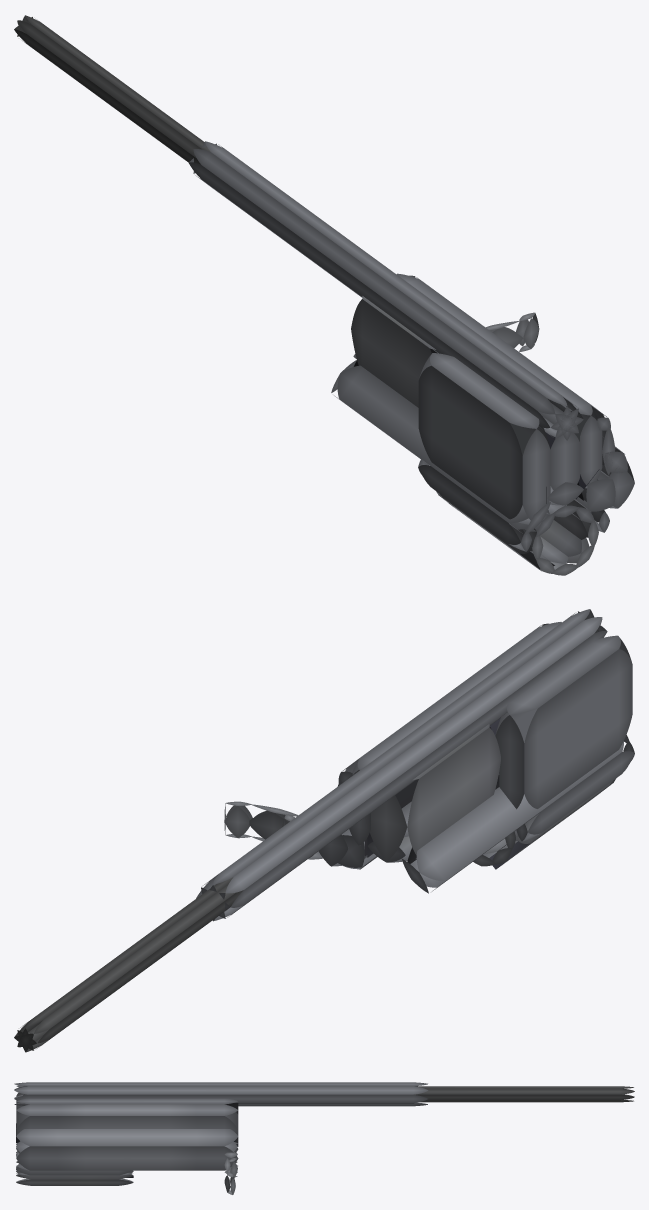
File: ak47_bolt.fbx
The picture shows the model from 3 angles, top to bottom: view 1: azimuth 30°, elevation 25°; view 2: azimuth 150°, elevation 25°; view 3: azimuth 270°, elevation 25°; orthographic projection. The views are drawn at different scales.
Parts seen in each view (by area): view 1: octagon, cube_9, octagon_8, cube_11, cube_8, octagon_21, octagon_10, octagon_24, octagon_22, cube_10, octagon_13, octagon_11 (+2 smaller); view 2: octagon, cube_9, cube_11, octagon_8, cube_8, octagon_21, octagon_10, octagon_24, octagon_22, cube_1, cube_3, octagon_11 (+2 smaller); view 3: octagon, cube_5, cube, cube_6, cube_7, cube_8, octagon_24, octagon_23, octagon_13, octagon_12, octagon_22, octagon_21 (+3 smaller).
Part boxes in pixels (<box>): octagon: <box>189,141,583,440</box>; cube_9: <box>418,353,550,524</box>; octagon_8: <box>331,360,550,534</box>; cube_11: <box>351,296,437,407</box>; cube_8: <box>396,273,602,488</box>; octagon_21: <box>17,20,201,158</box>; octagon_10: <box>418,459,531,551</box>; octagon_24: <box>14,22,200,164</box>; octagon_22: <box>21,15,210,151</box>; cube_10: <box>550,433,579,490</box>; octagon_13: <box>540,520,594,568</box>; octagon_11: <box>545,432,615,512</box>; octagon: <box>196,609,607,921</box>; cube_9: <box>495,635,632,809</box>; cube_11: <box>365,724,500,861</box>; octagon_8: <box>402,735,630,893</box>; cube_8: <box>349,622,561,845</box>; octagon_21: <box>17,885,235,1047</box>; octagon_10: <box>516,742,634,841</box>; octagon_24: <box>14,890,243,1045</box>; octagon_22: <box>21,877,233,1052</box>; cube_1: <box>249,804,298,841</box>; cube_3: <box>224,801,252,838</box>; octagon_11: <box>337,718,500,869</box>; octagon: <box>14,1082,428,1106</box>; cube_5: <box>16,1146,238,1170</box>; cube: <box>16,1129,238,1146</box>; cube_6: <box>16,1116,238,1133</box>; cube_7: <box>16,1104,237,1115</box>; cube_8: <box>16,1098,238,1143</box>; octagon_24: <box>414,1088,634,1100</box>; octagon_23: <box>416,1089,634,1096</box>; octagon_13: <box>16,1174,133,1185</box>; octagon_12: <box>16,1167,132,1175</box>; octagon_22: <box>416,1086,633,1100</box>; octagon_21: <box>419,1086,633,1102</box>.
Size of the model in its own units: 14.41 by 11.43 by 65.82.
1 material, 1 textured.
